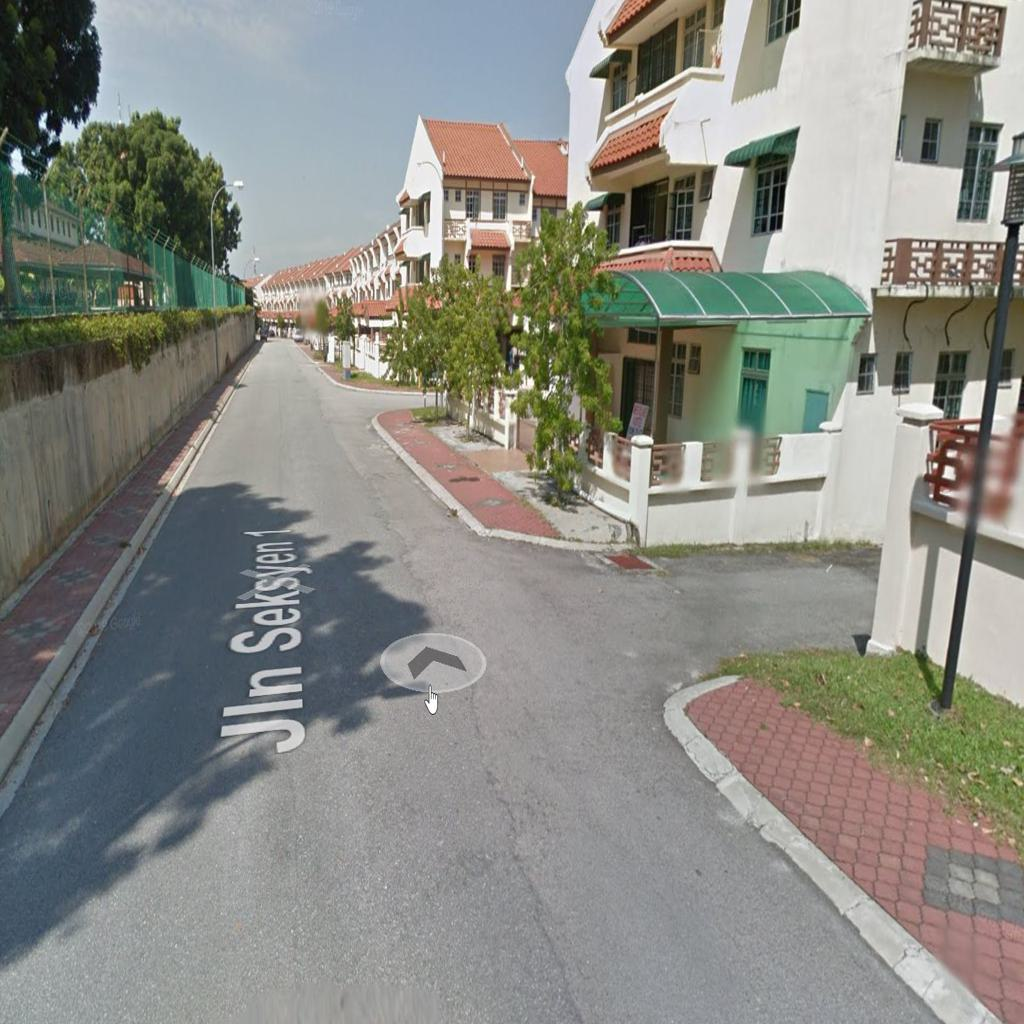Junction: (524, 519, 866, 723), (345, 360, 453, 435)
